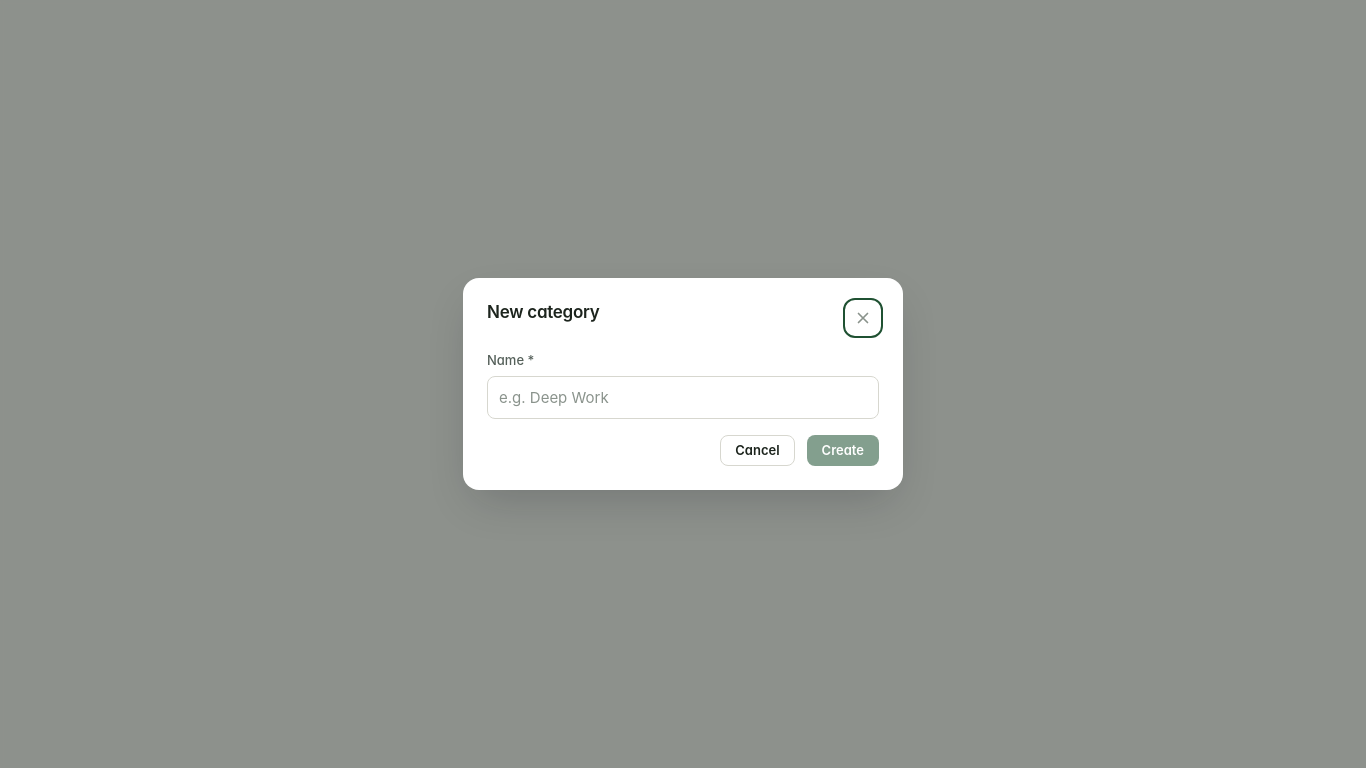
CategoryDialog › surfaces a duplicate-name (409) error
Type "Admin" into the field labelled "Name *".
click(683, 398); type("Admin")  # box [487,376,879,419]
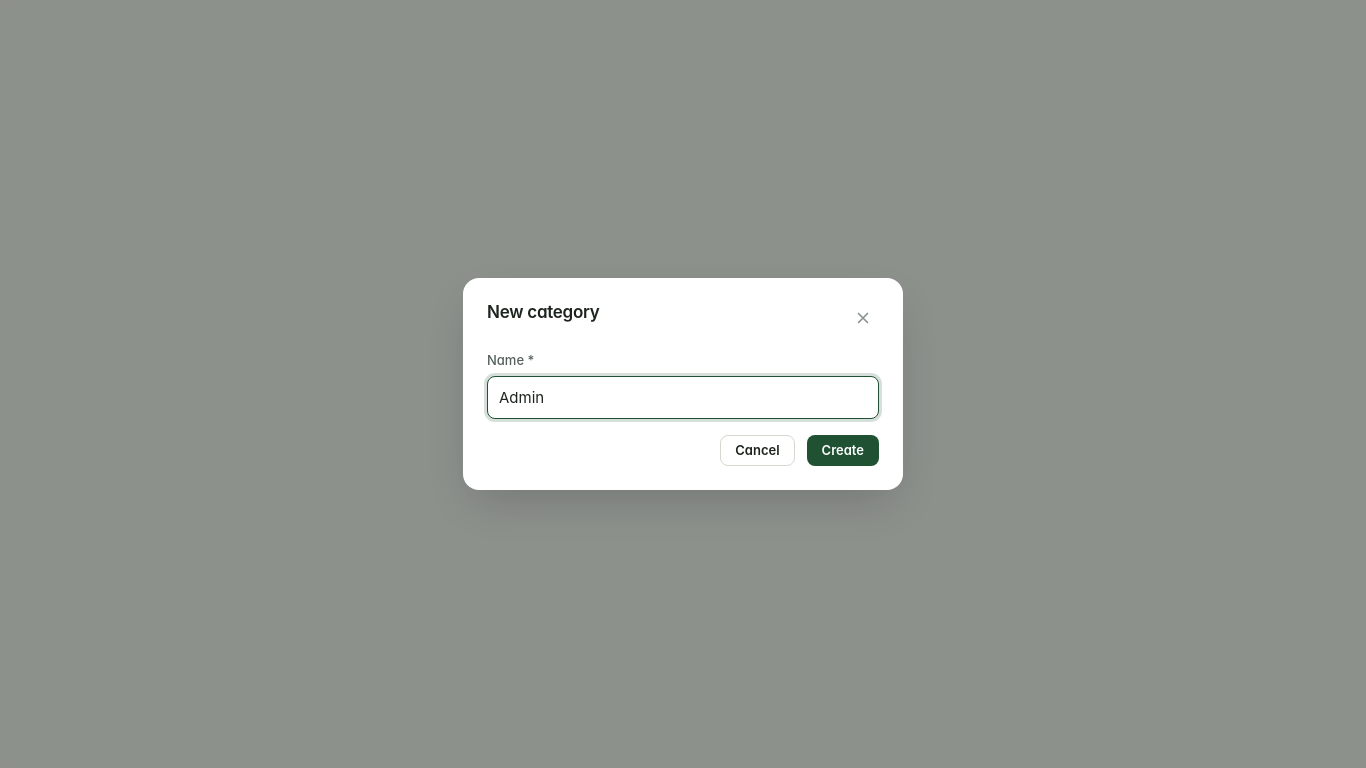
Click the button "Create".
click(843, 451)  # box [807,435,879,466]
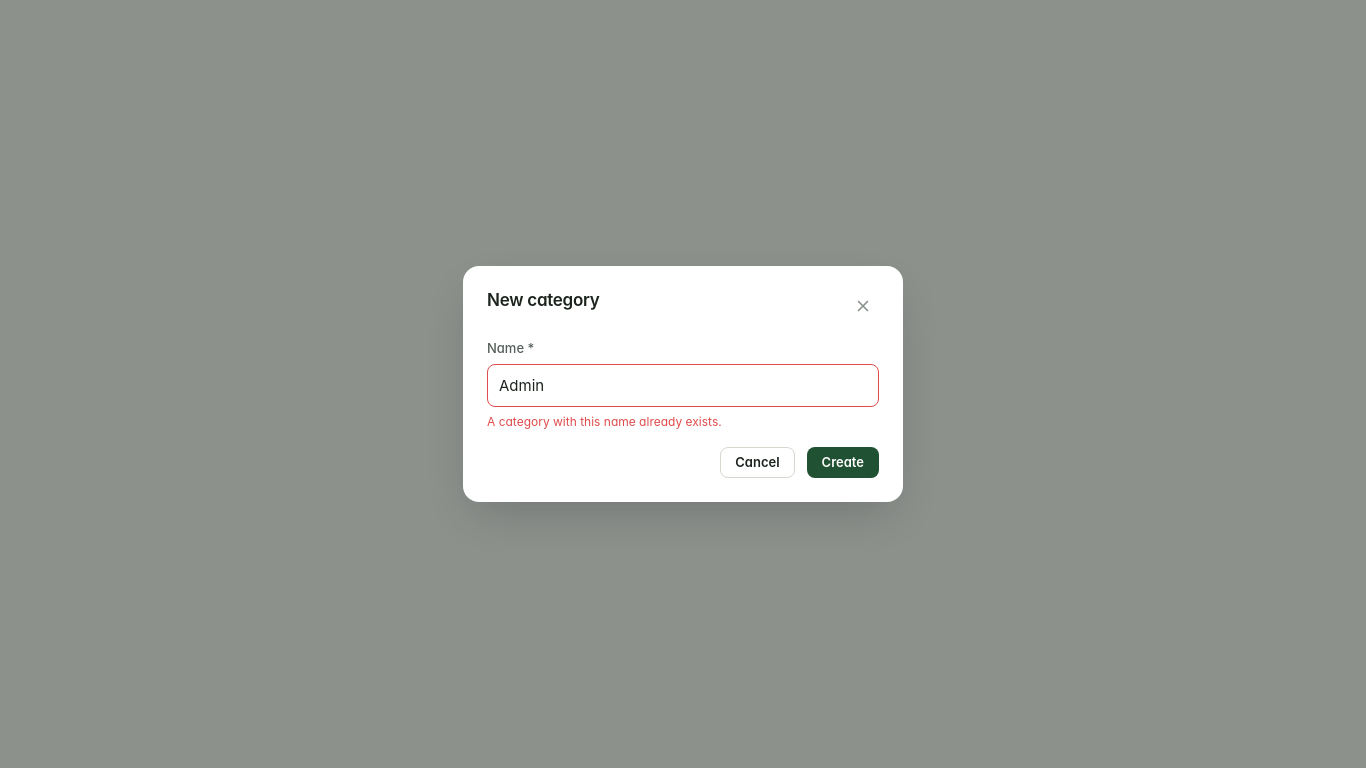
expect the text "A category with this name already exists." is shown: met, box [487,414,722,429]
